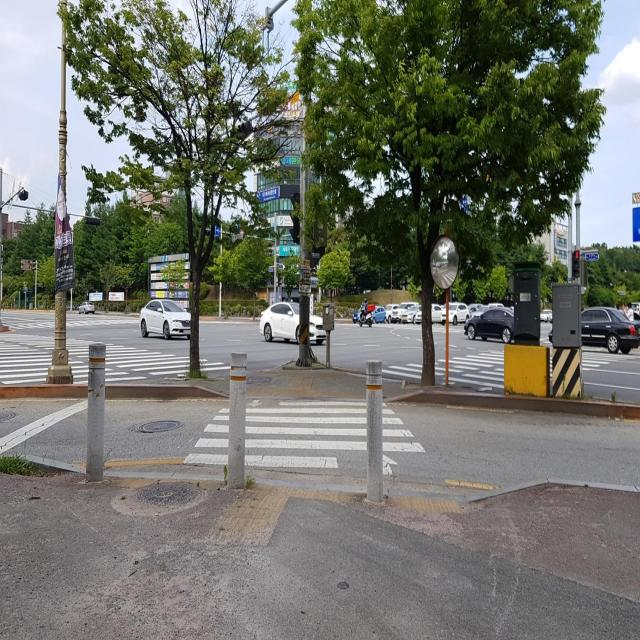빨간불: (570, 248, 582, 282)
횡단보도: (182, 397, 426, 477), (0, 328, 226, 393), (397, 332, 621, 388)
